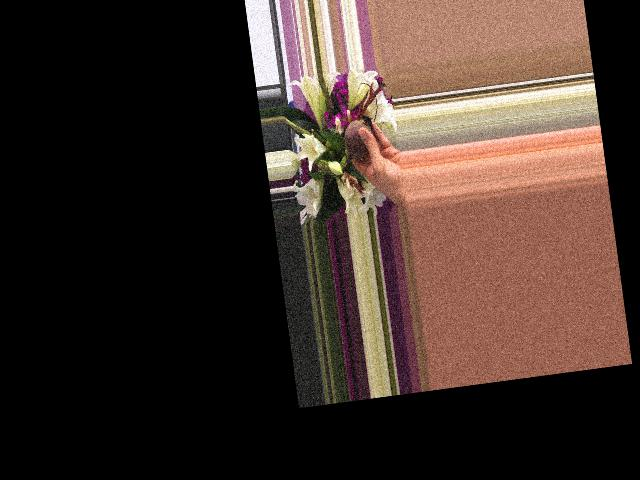beet: (334, 114, 378, 171)
